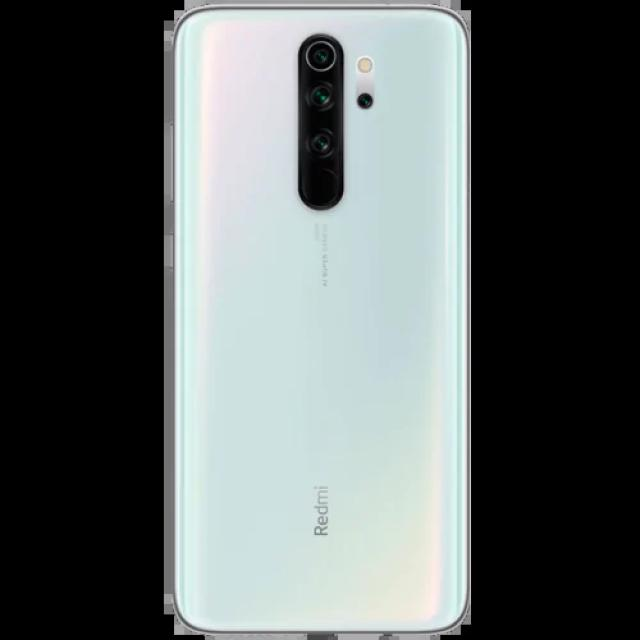Red Mi Note 8 Pro: (164, 0, 474, 640)
